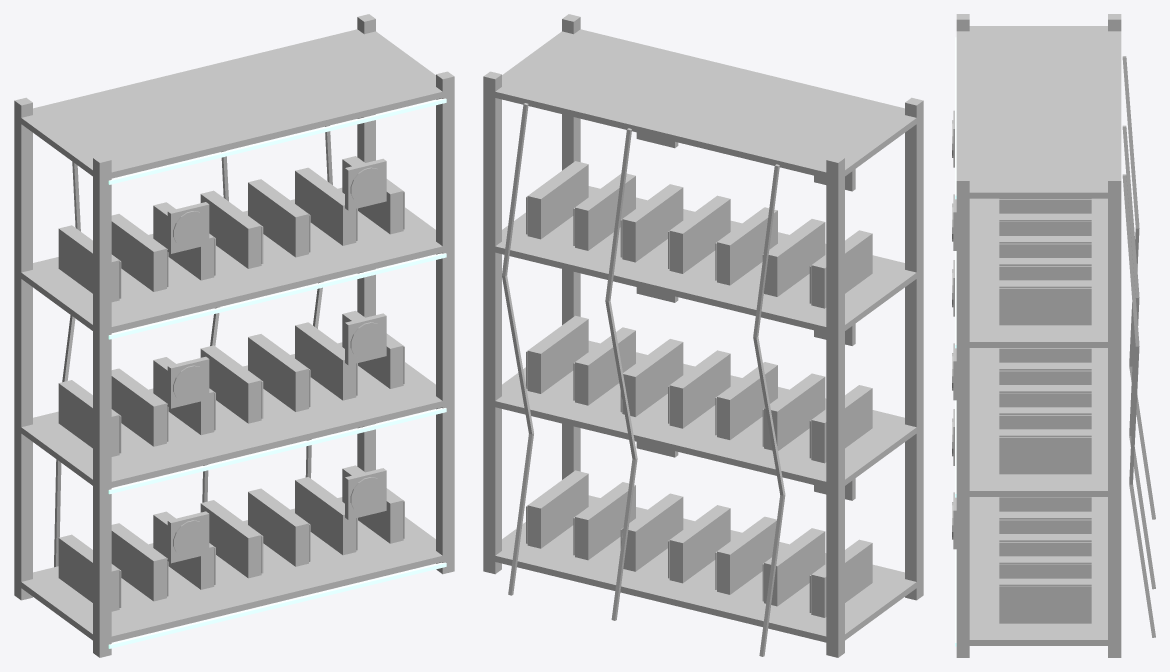
The model's file is gpu_rack.glb.
3 views of the same model, side by side, from view 1: azimuth 30°, elevation 25°; view 2: azimuth 150°, elevation 25°; view 3: azimuth 270°, elevation 25° (orthographic). The views are drawn at different scales.
Parts seen in each view (by area): view 1: gpu_rack, fan_1, fan_4, fan_3, fan_2, fan_5, fan_6; view 2: gpu_rack; view 3: gpu_rack.
Boxes of the visible parts, x1,y1,x2,y2 form: gpu_rack: (14,14,454,657); fan_1: (173,520,207,557); fan_4: (350,322,384,359); fan_3: (173,365,207,402); fan_2: (350,477,384,514); fan_5: (173,211,207,247); fan_6: (350,167,384,204); gpu_rack: (483,14,923,657); gpu_rack: (953,14,1155,657).
Size of the model in its own units: 1.2 by 1.6 by 0.6196.
